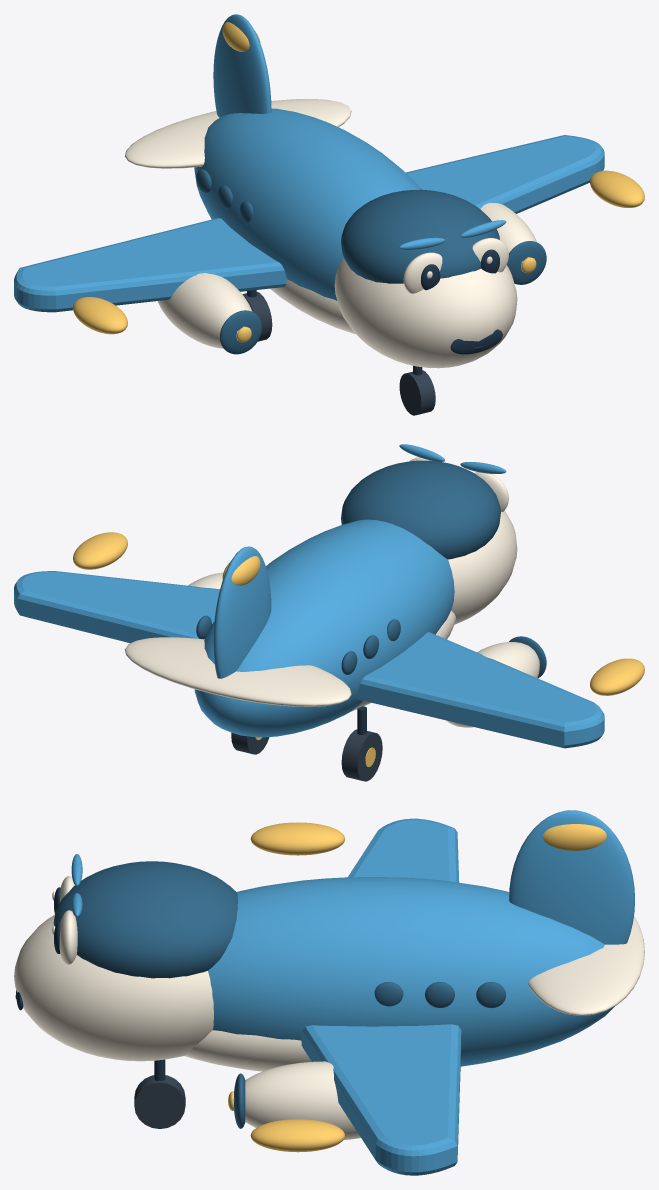
Rendered from cloud-airplane.glb.
3 views of the same model, one above another, from view 1: azimuth 30°, elevation 25°; view 2: azimuth 150°, elevation 25°; view 3: azimuth 270°, elevation 25° (orthographic). The views are drawn at different scales.
Parts seen in each view (by area): view 1: Blue_Fuselage, Wing_L, Round_Nose, Cockpit, Wing_R, Engine_Pod (×2), Tailplane, Tail_Fin, Wingtip_Gold (×2), Engine_Intake (×2), Cream_Belly, Eye_White (×2) (+3 smaller); view 2: Blue_Fuselage, Wing_L, Wing_R, Cockpit, Tailplane, Tail_Fin, Round_Nose, Wingtip_Gold (×2), Landing_Wheel (×2), Engine_Pod, Fin_Gold_Tip, Eye_White; view 3: Blue_Fuselage, Wing_R, Round_Nose, Cockpit, Tail_Fin, Tailplane, Engine_Pod, Wing_L, Wingtip_Gold (×2), Cream_Belly, Front_Wheel, Passenger_Window (×3) (+3 smaller).
Boxes of the visible parts, left/top/right/bottom form: Blue_Fuselage: left=194, top=108, right=421, bottom=300; Wing_L: left=14, top=218, right=287, bottom=312; Round_Nose: left=334, top=257, right=517, bottom=368; Cockpit: left=341, top=189, right=499, bottom=283; Wing_R: left=405, top=135, right=604, bottom=213; Engine_Pod (×2): left=157, top=203, right=536, bottom=348; Tailplane: left=125, top=99, right=351, bottom=168; Tail_Fin: left=213, top=14, right=271, bottom=117; Wingtip_Gold (×2): left=73, top=170, right=644, bottom=334; Engine_Intake (×2): left=220, top=241, right=546, bottom=354; Cream_Belly: left=270, top=280, right=355, bottom=334; Eye_White (×2): left=403, top=238, right=508, bottom=293; Blue_Fuselage: left=194, top=519, right=454, bottom=737; Wing_L: left=356, top=632, right=604, bottom=748; Wing_R: left=14, top=571, right=219, bottom=643; Cockpit: left=341, top=460, right=500, bottom=559; Tailplane: left=124, top=637, right=351, bottom=706; Tail_Fin: left=213, top=546, right=271, bottom=678; Round_Nose: left=448, top=510, right=517, bottom=624; Wingtip_Gold (×2): left=73, top=532, right=644, bottom=695; Landing_Wheel (×2): left=231, top=729, right=382, bottom=781; Engine_Pod: left=446, top=642, right=539, bottom=727; Fin_Gold_Tip: left=222, top=556, right=260, bottom=585; Eye_White: left=474, top=472, right=508, bottom=511; Blue_Fuselage: left=208, top=877, right=614, bottom=1066; Wing_R: left=301, top=1024, right=461, bottom=1175; Round_Nose: left=14, top=914, right=213, bottom=1061; Cockpit: left=53, top=861, right=237, bottom=978; Tail_Fin: left=509, top=810, right=634, bottom=944; Tailplane: left=528, top=916, right=644, bottom=1015; Engine_Pod: left=233, top=1061, right=360, bottom=1140; Wing_L: left=348, top=818, right=459, bottom=882; Wingtip_Gold (×2): left=250, top=822, right=345, bottom=1152; Cream_Belly: left=184, top=1030, right=311, bottom=1071; Front_Wheel: left=134, top=1075, right=185, bottom=1128; Passenger_Window (×3): left=374, top=982, right=505, bottom=1008.
Bounding box in the file's own units: 2.01 × 0.88 × 1.6.
